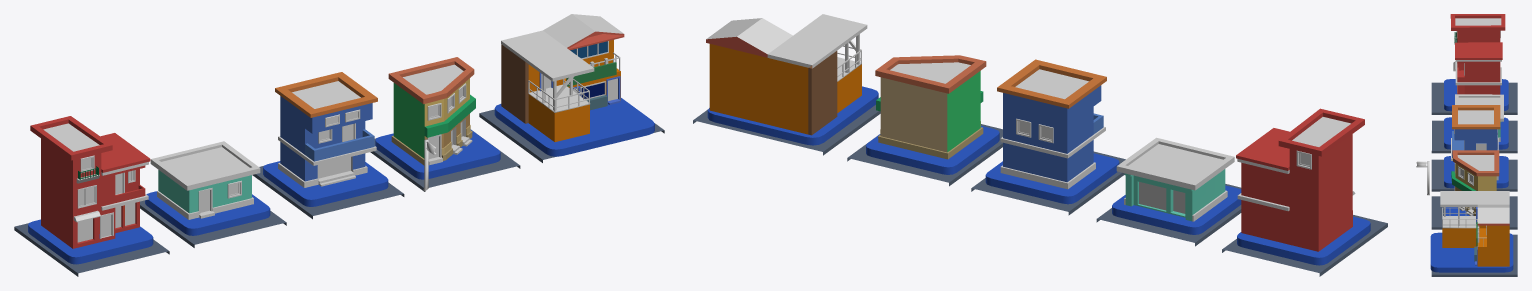
Rendered from boncafe_m.fbx.
3 views of the same model, side by side, from view 1: azimuth 30°, elevation 25°; view 2: azimuth 150°, elevation 25°; view 3: azimuth 270°, elevation 25° (orthographic). The views are drawn at different scales.
Parts seen in each view (by area): view 1: boncafe_m; view 2: boncafe_m; view 3: boncafe_m.
Part boxes in pixels (x1,y1,x2,y2): boncafe_m: [14, 14, 664, 276]; boncafe_m: [693, 14, 1387, 276]; boncafe_m: [1416, 14, 1517, 276].
Size of the model in its own units: 4263 by 760 by 953.
